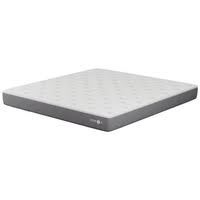bed-matress: (2, 69, 198, 132)
